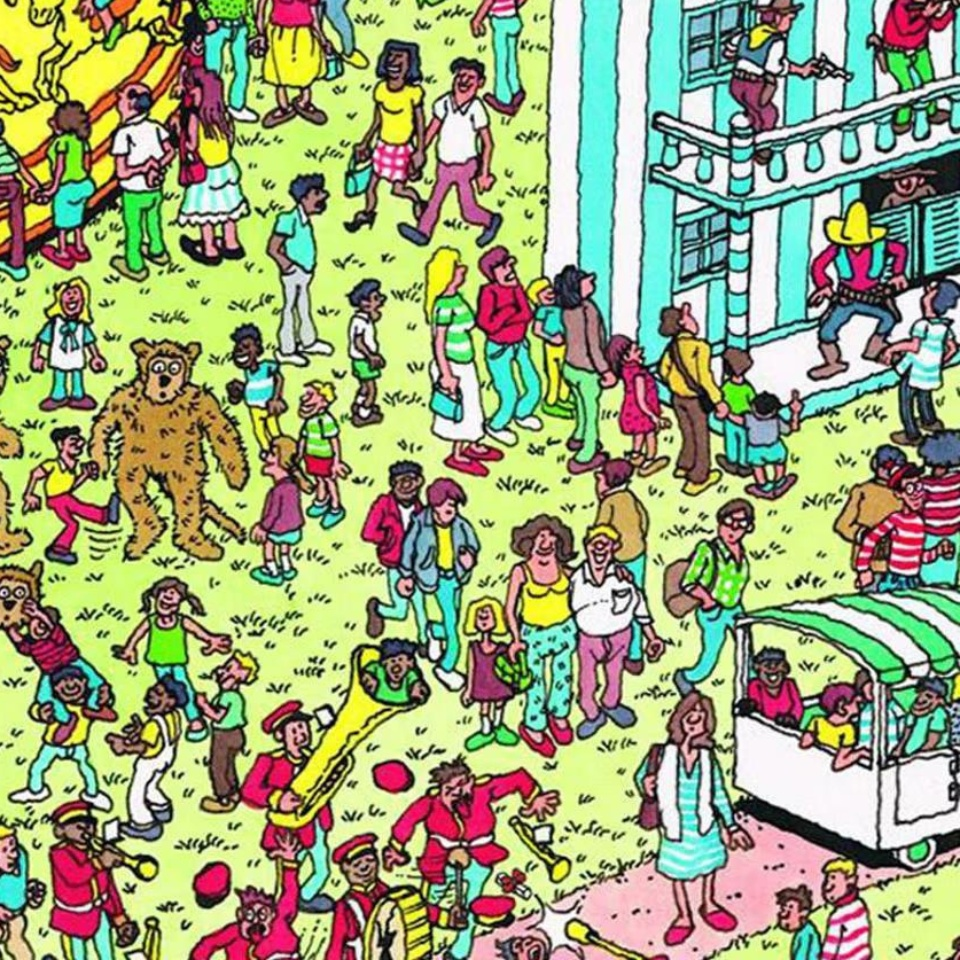waldo: (858, 462, 957, 587)
